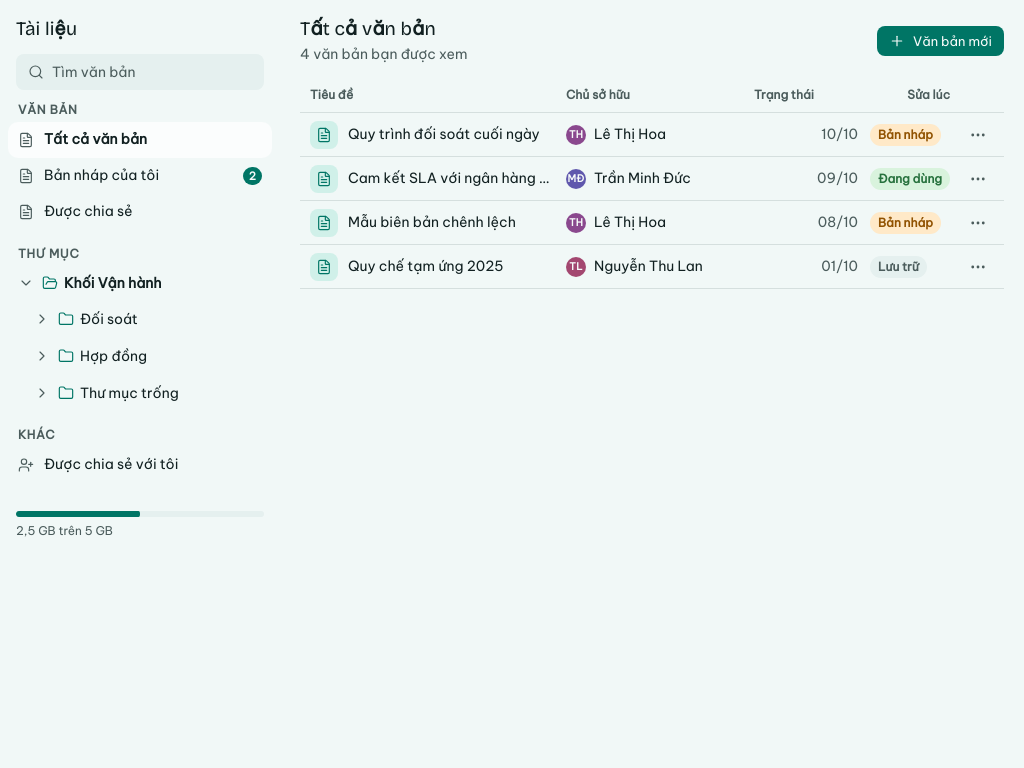
Test: TextsScreen: creating and deleting › offers Xoá only for documents the person can write, after confirming
This screenshot has width=1024, height=768.
Expected: the link "Cam kết SLA với ngân hàng đối tác" is shown, [348, 168, 554, 189]
Click the button named "Thao tác với Cam kết SLA với ngân hàng đối tác": point(978, 178) [962, 162, 994, 194]
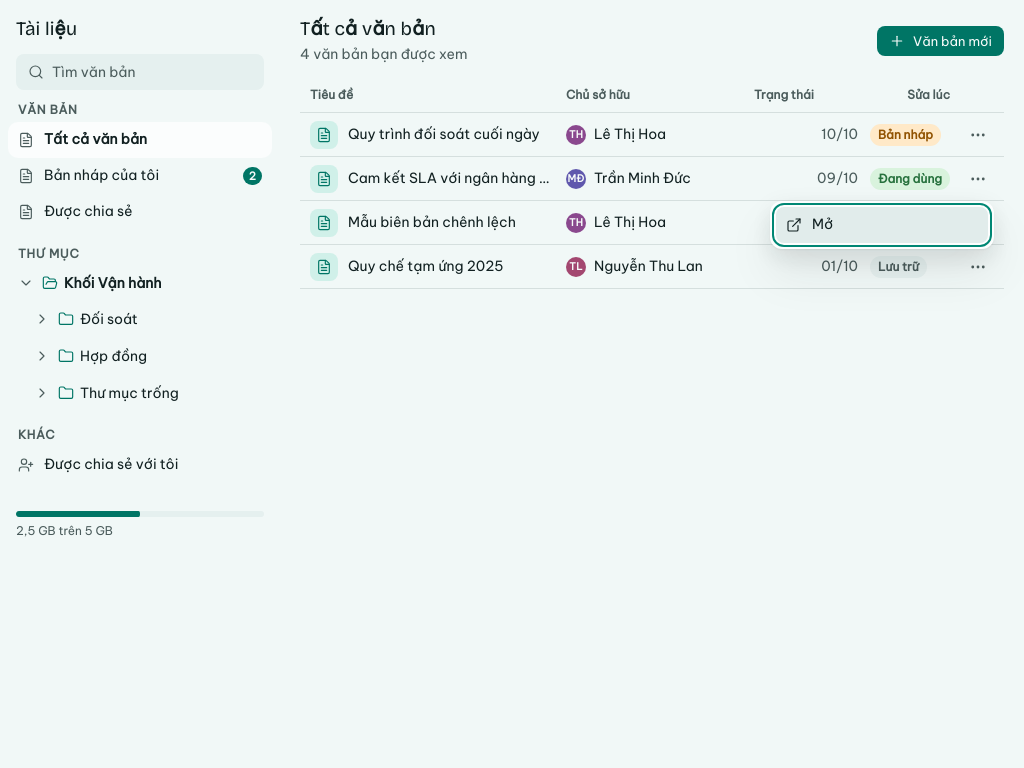
Expected: the menu item "Xoá" is not shown
Press Escape
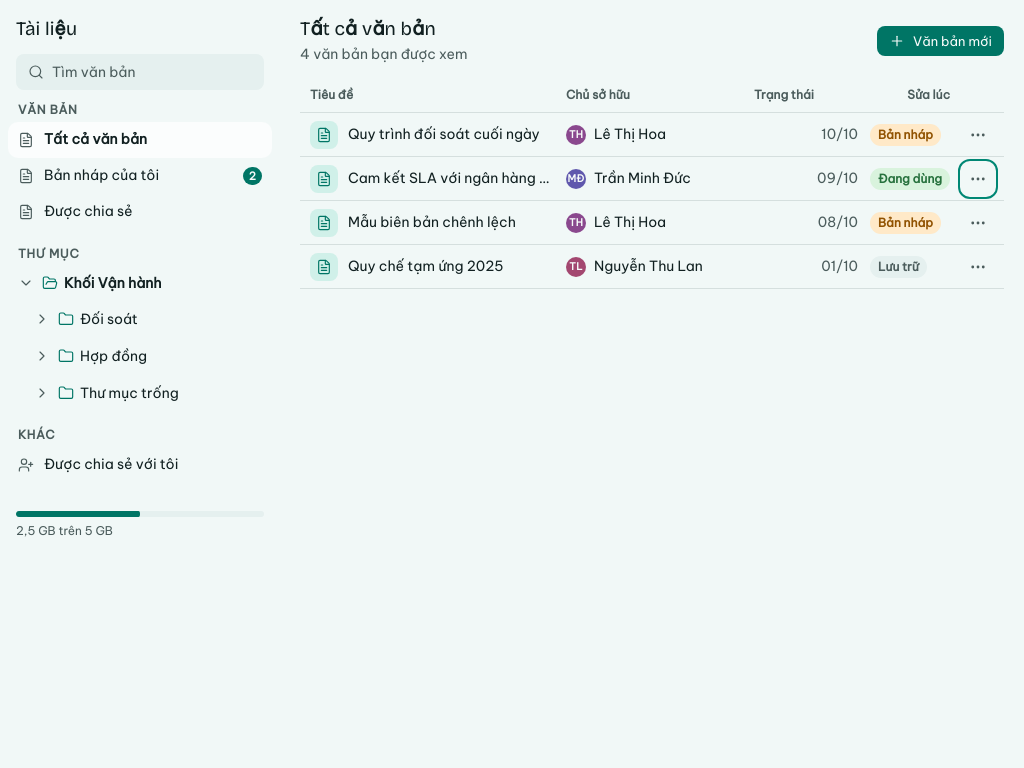
Click the button named "Thao tác với Mẫu biên bản chênh lệch": point(978, 222) [962, 206, 994, 238]
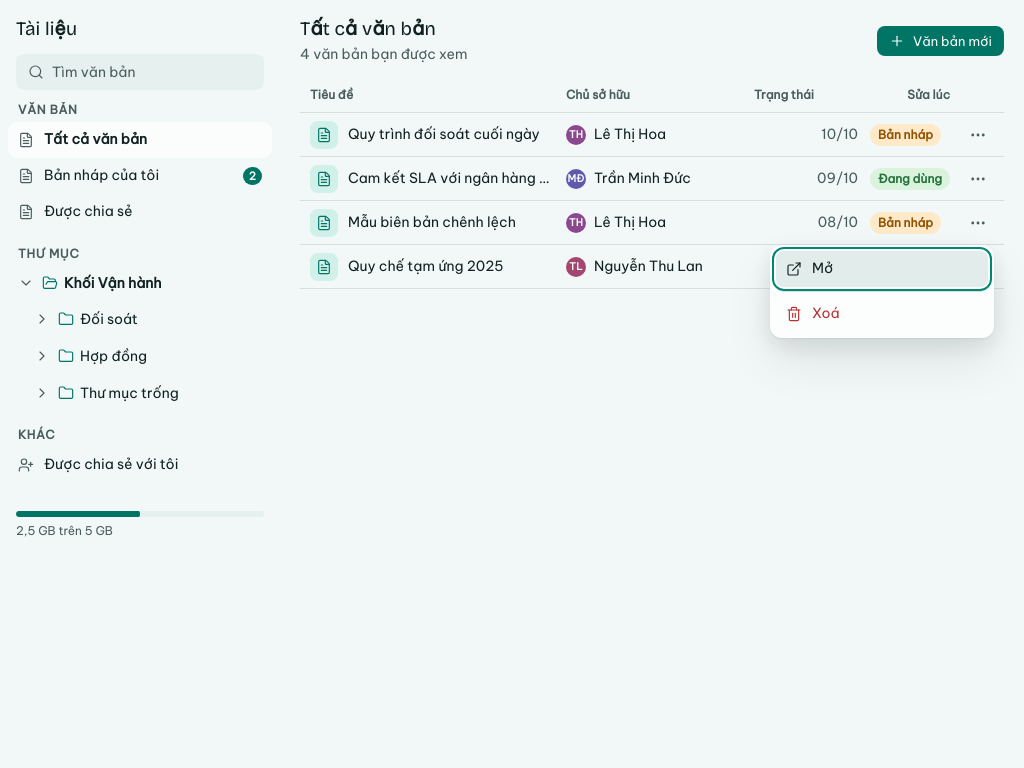
Click the menu item "Xoá": point(882, 314) [776, 296, 988, 332]
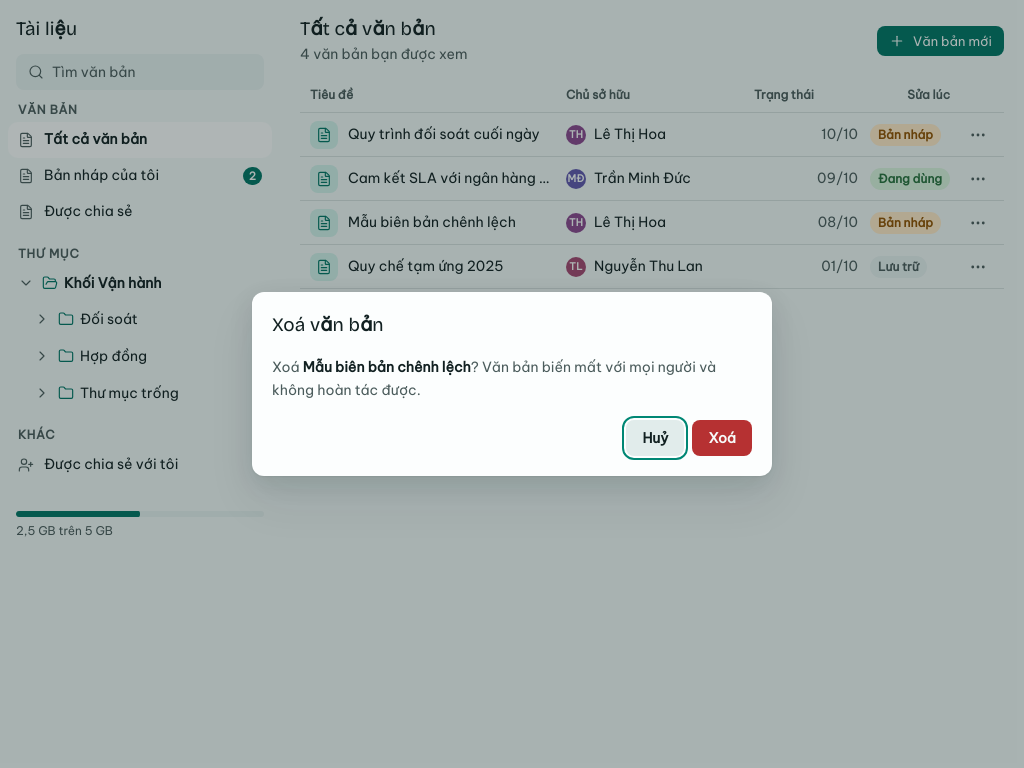
Expected: the text "Mẫu biên bản chênh lệch" is shown, [303, 358, 471, 376]
Click the button "Xoá": point(722, 438) [692, 420, 752, 456]
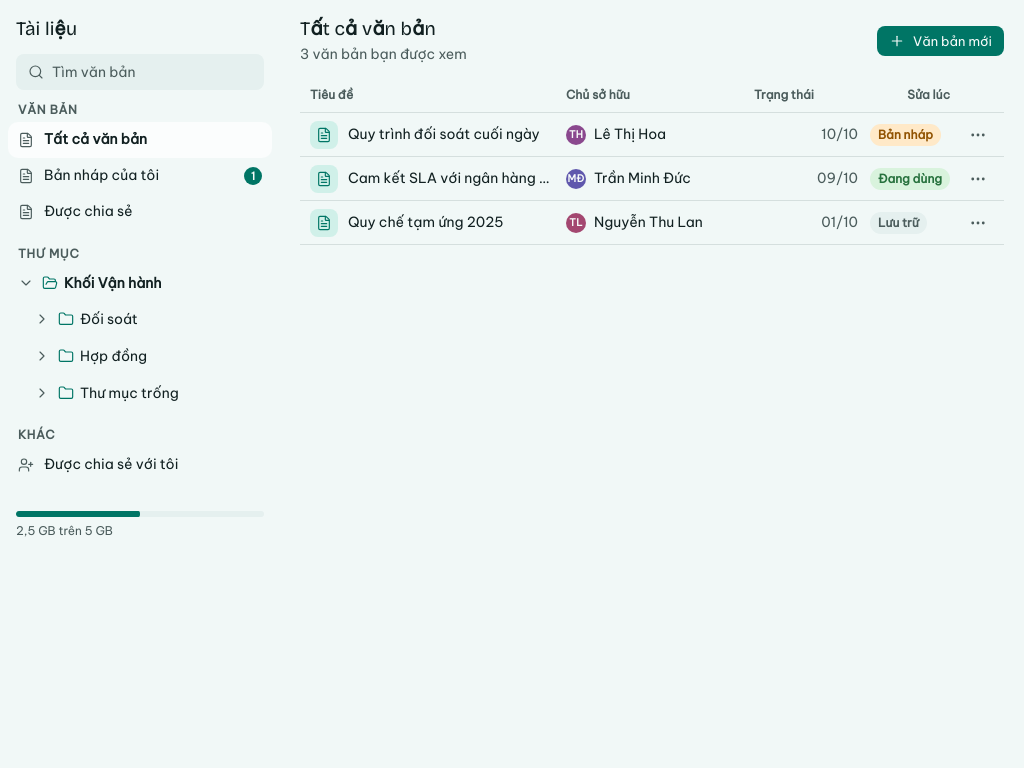
Expected: the link "Mẫu biên bản chênh lệch" no longer shows "Mẫu biên bản chênh lệch"
